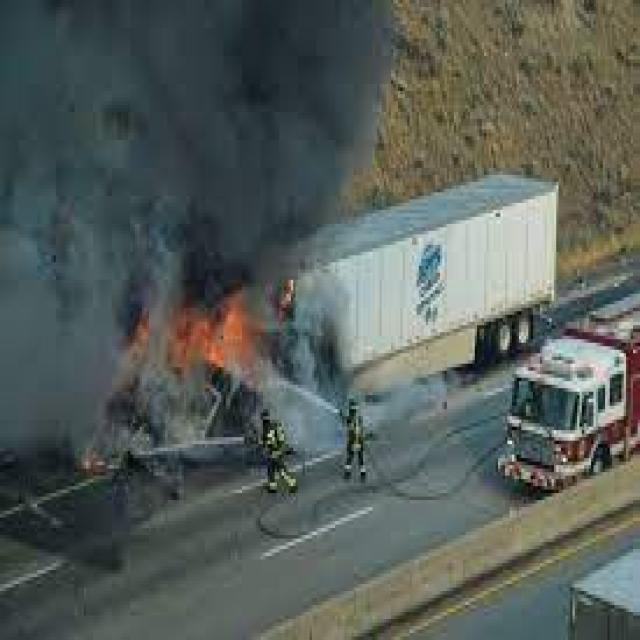fire: (128, 283, 258, 385)
smoke: (2, 3, 391, 255), (2, 241, 170, 472), (284, 266, 358, 388)
